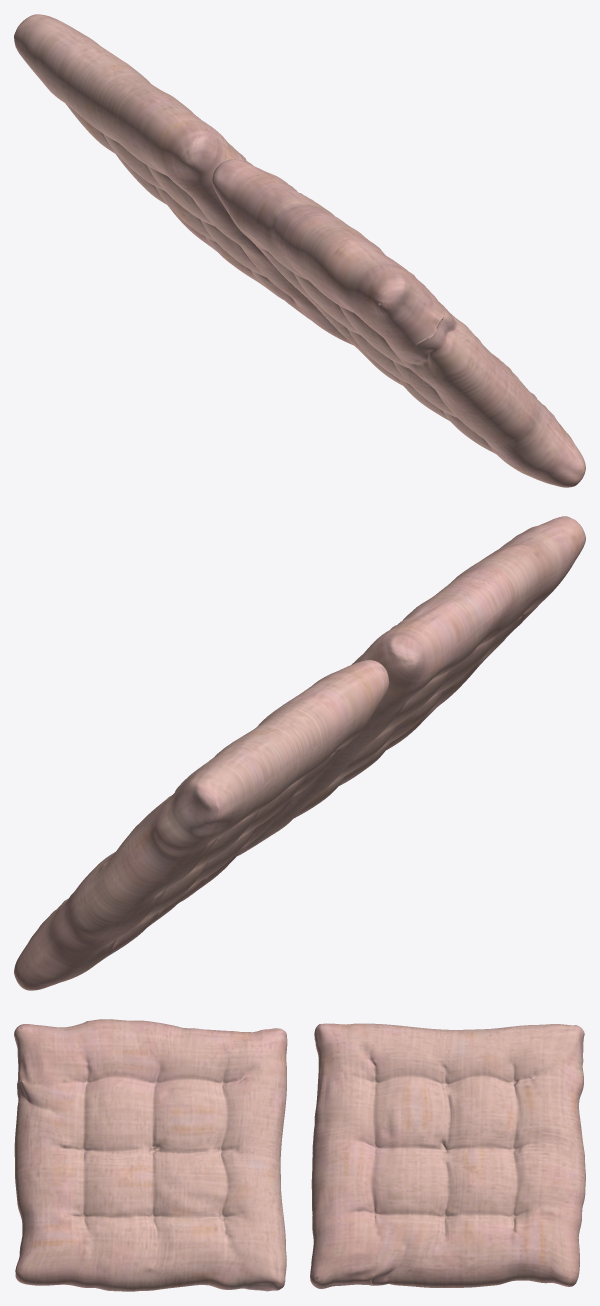
File: BackrestPillow.fbx
3 renders of one model, top to bottom at view 1: azimuth 30°, elevation 25°; view 2: azimuth 150°, elevation 25°; view 3: azimuth 270°, elevation 25°, orthographic. The views are drawn at different scales.
Visible parts, largest first — view 1: Plane, Plane.001; view 2: Plane.001, Plane; view 3: Plane, Plane.001.
Boxes of the visible parts, box(x1,y1,x2,y2) form: Plane: box(212, 159, 585, 487); Plane.001: box(14, 14, 353, 345); Plane.001: box(14, 660, 389, 990); Plane: box(237, 516, 585, 856); Plane: box(14, 1019, 287, 1291); Plane.001: box(310, 1023, 585, 1288).
Size of the model in its own units: 142 by 165 by 416.
